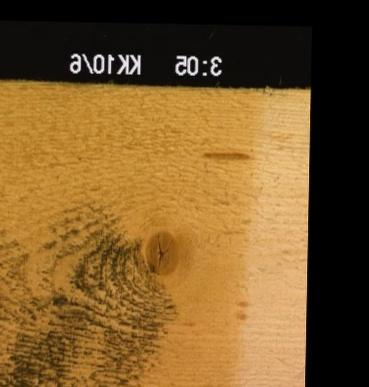sound_knot: (145, 228, 182, 275)
